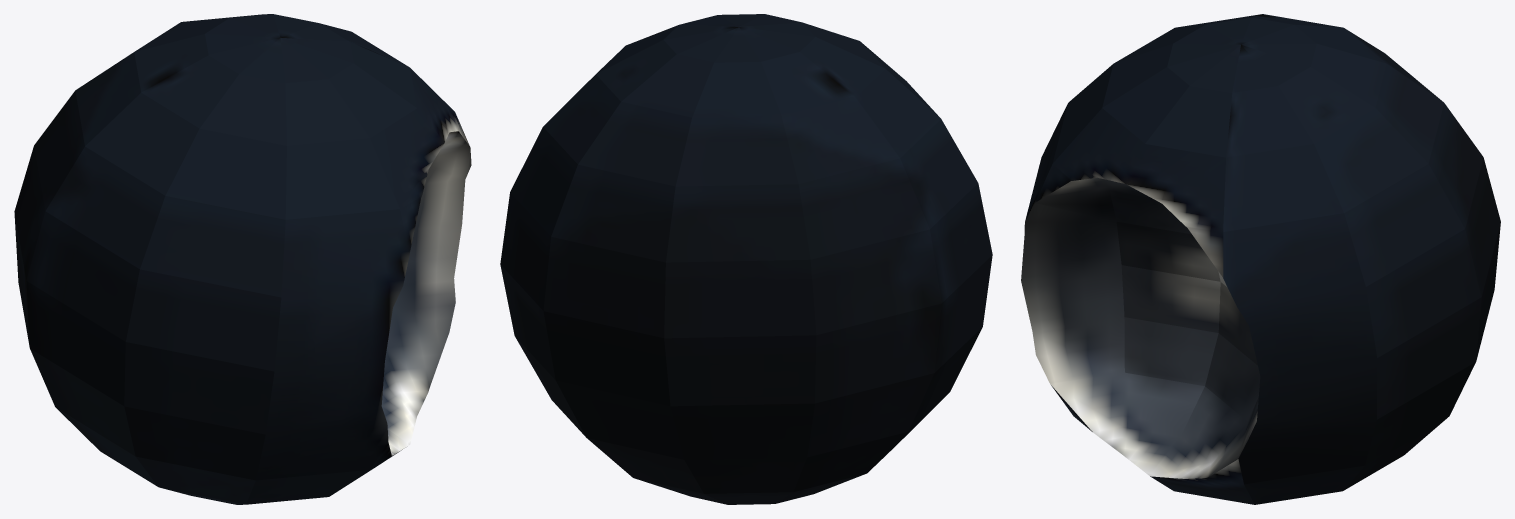
Rendered from Tx_prop_cctv_4.fbx.
3 renders of one model, left to right at view 1: azimuth 30°, elevation 25°; view 2: azimuth 150°, elevation 25°; view 3: azimuth 270°, elevation 25°, orthographic.
Parts seen in each view (by area): view 1: polySurface31; view 2: polySurface31; view 3: polySurface31.
Boxes of the visible parts, x1,y1,x2,y2 form: polySurface31: [14, 14, 471, 504]; polySurface31: [500, 14, 992, 504]; polySurface31: [1021, 14, 1500, 504].
Size of the model in its own units: 1.98 by 2.01 by 1.97.
